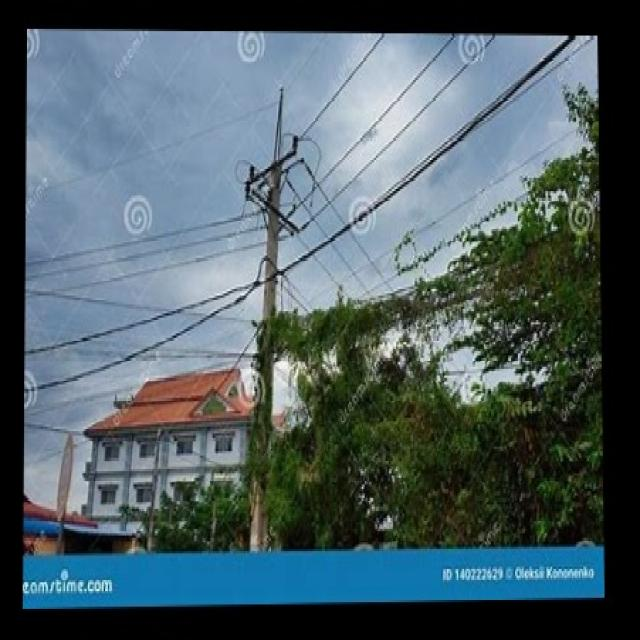critical vegetation: (262, 263, 602, 406)
